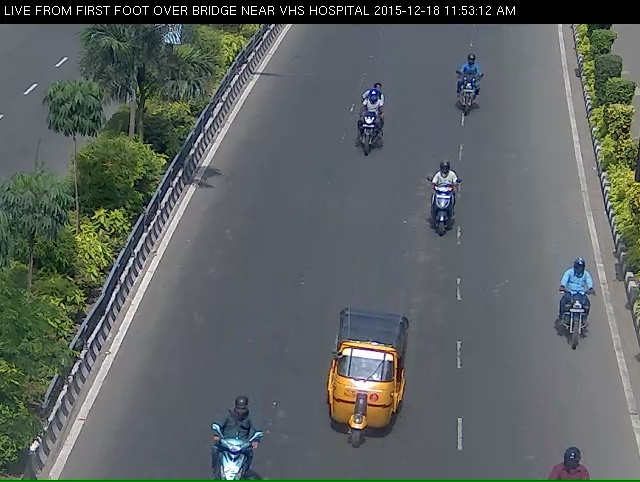Auto: (309, 322, 414, 475)
Person: (322, 86, 395, 174), (549, 275, 603, 376), (423, 167, 469, 264), (448, 58, 492, 141)
